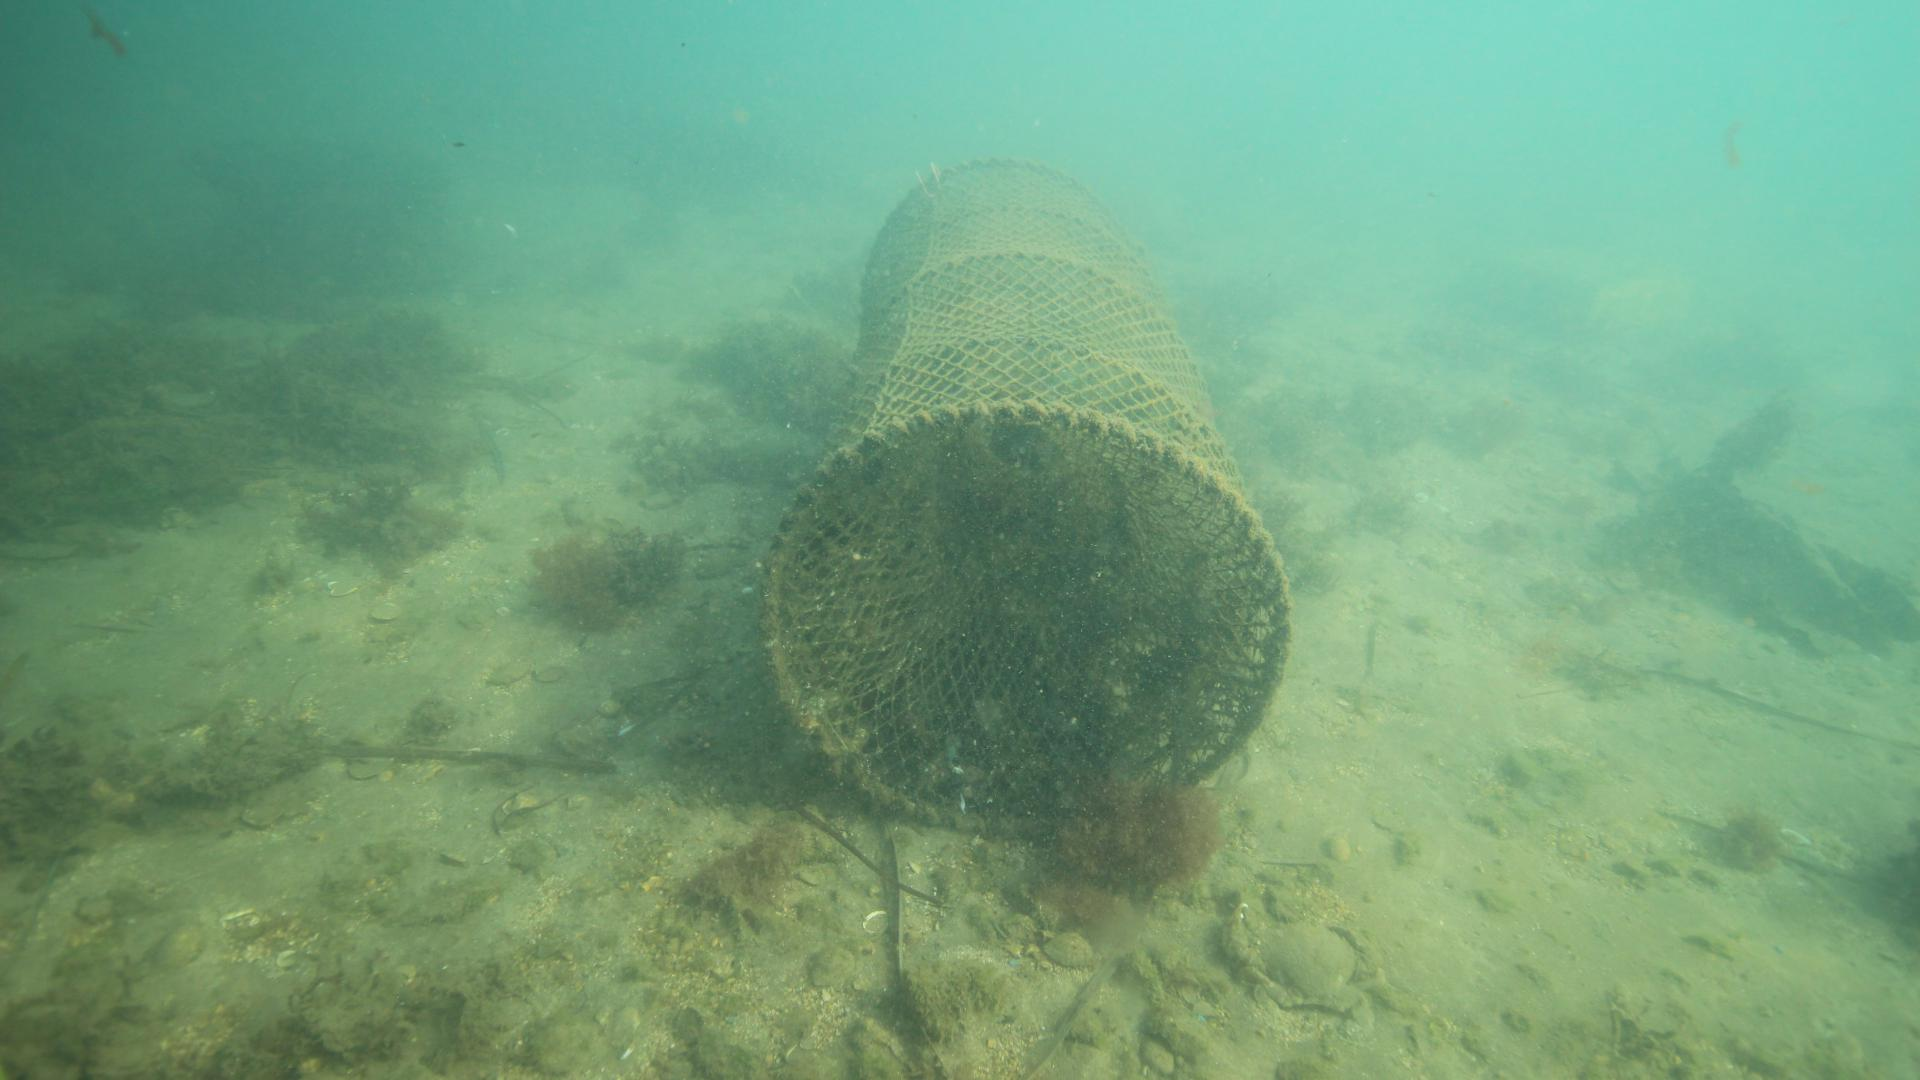spring fish trap: (757, 156, 1294, 835)
